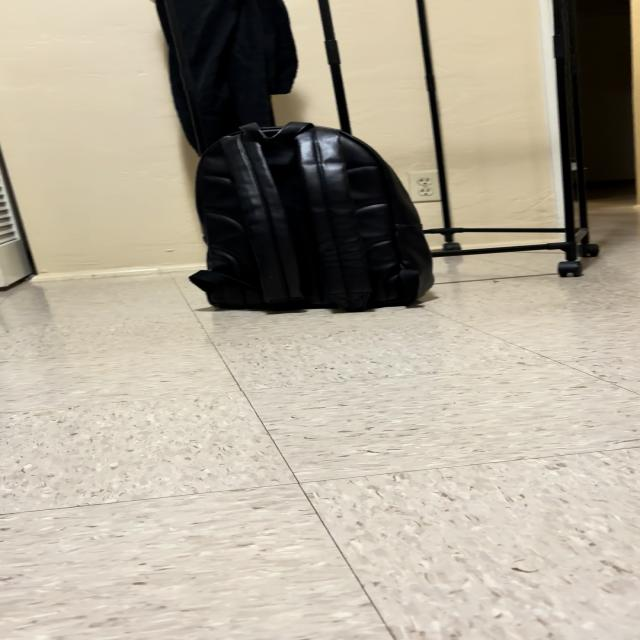backpack: (190, 122, 433, 311)
